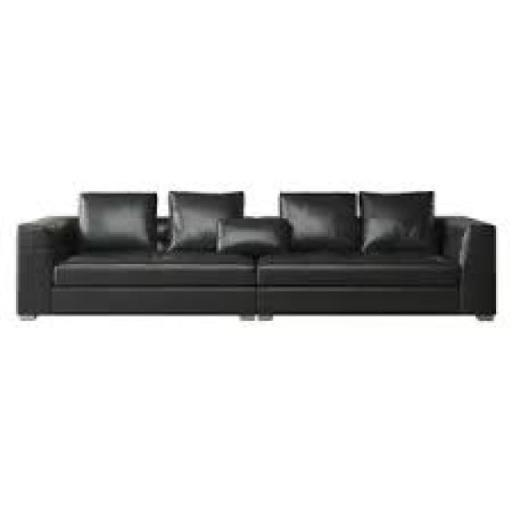sofa: (0, 107, 512, 399)
